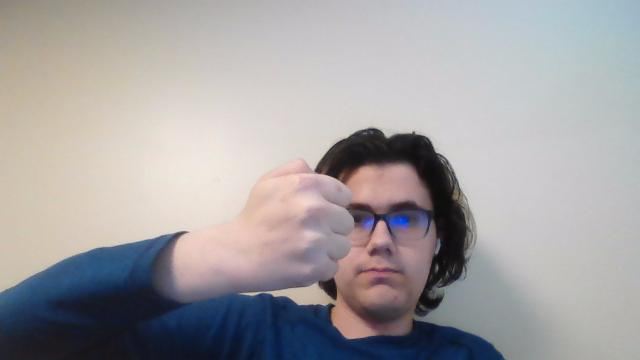Rock: (197, 119, 372, 320)
